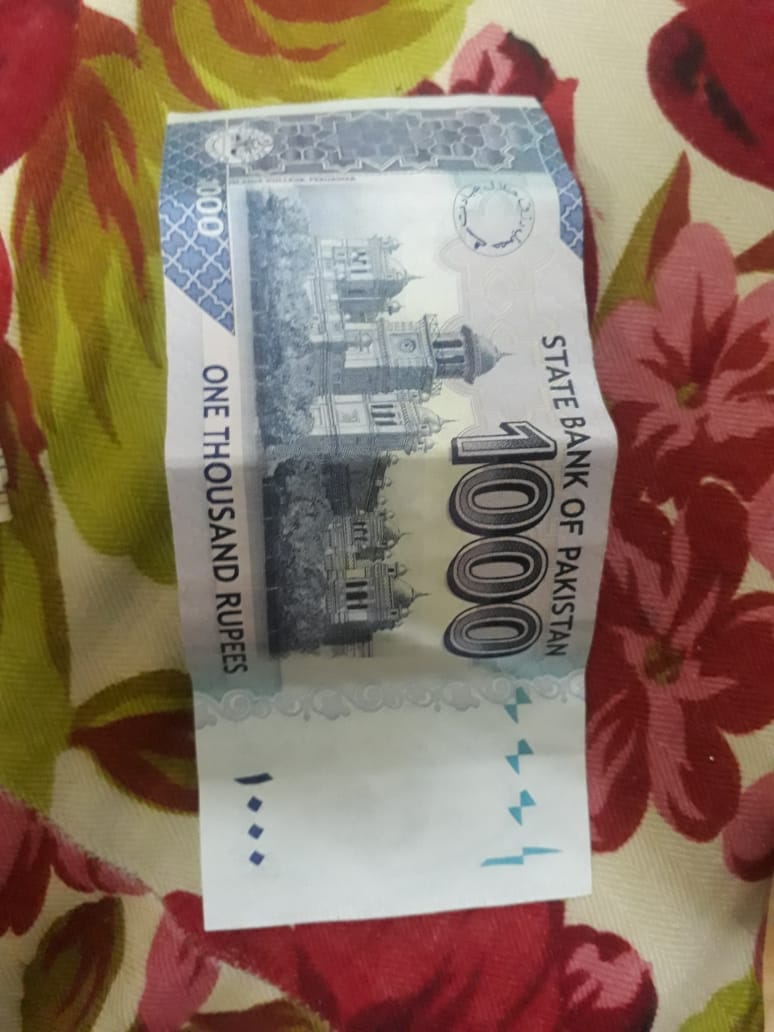1000 rupee: (132, 72, 681, 973)
